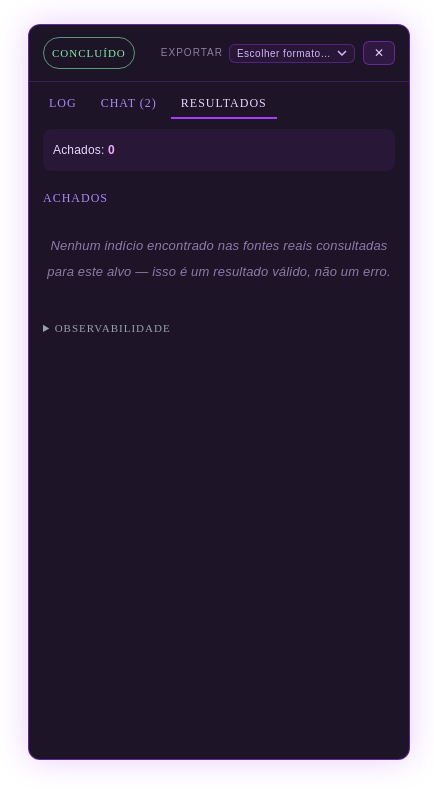
Test: RunPanel › mostra as decisões humanas como conversa no chat
Click the button "Chat (2)": (129, 105) [91,90,167,119]
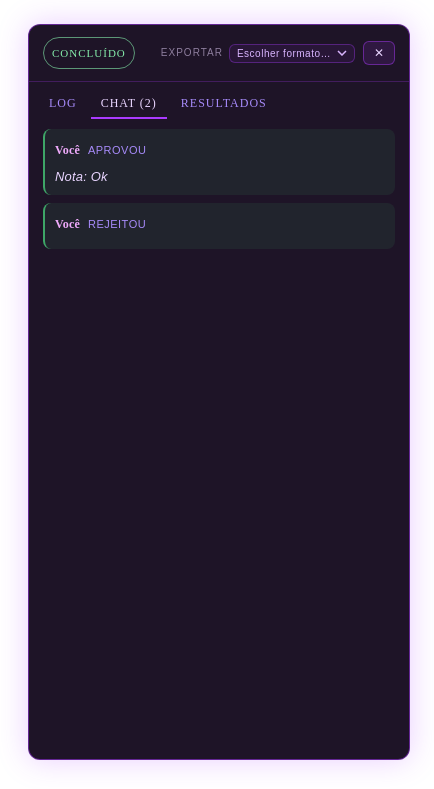
Now the text "Você" is shown 2 times, box [55,143,80,157]; [55,217,80,231]
Now the text "aprovou" is shown, box [88,144,146,156]
Now the text "rejeitou" is shown, box [88,218,146,230]
